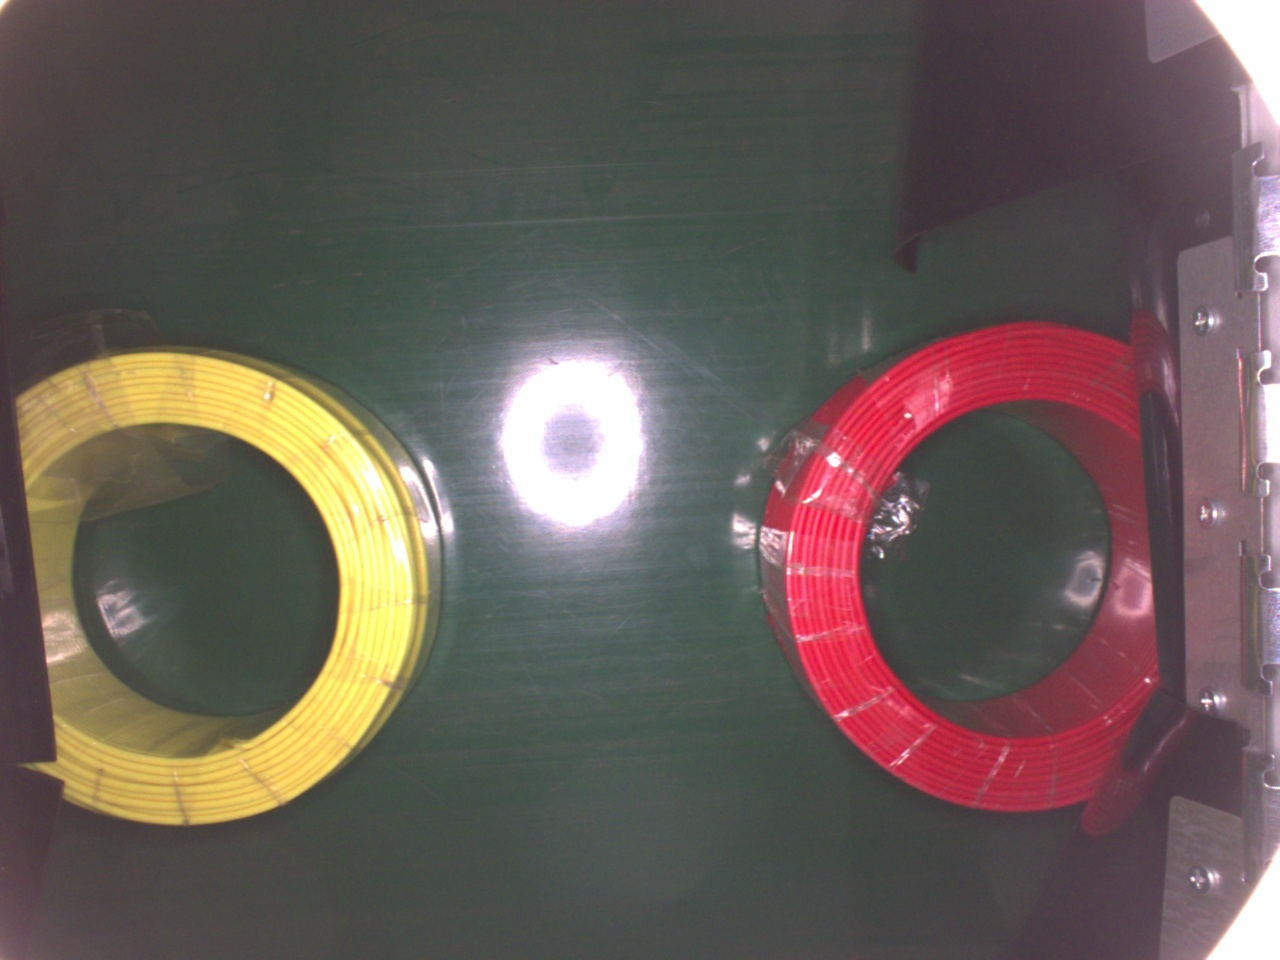red: (757, 316, 1161, 814)
yellow: (12, 345, 439, 834)
